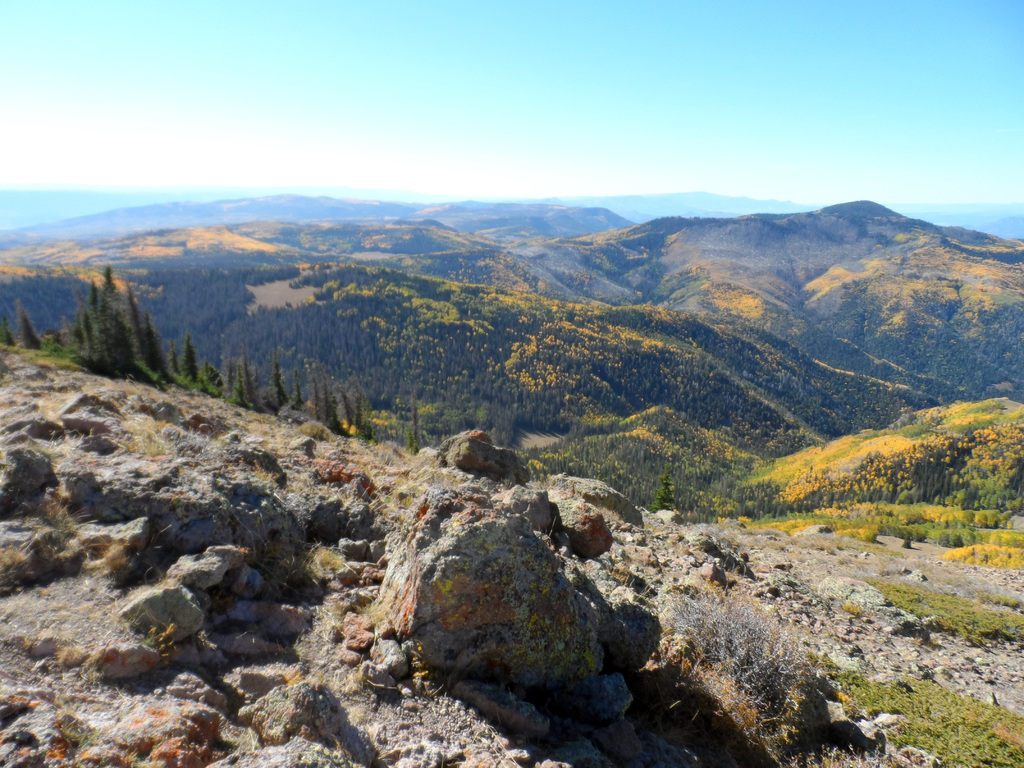Tree: (300, 374, 360, 432), (218, 344, 266, 410), (67, 279, 101, 364), (137, 313, 177, 376), (104, 309, 140, 378), (394, 396, 421, 458), (14, 298, 46, 349), (641, 471, 681, 508), (173, 332, 199, 384), (267, 354, 289, 403), (103, 260, 120, 311)
